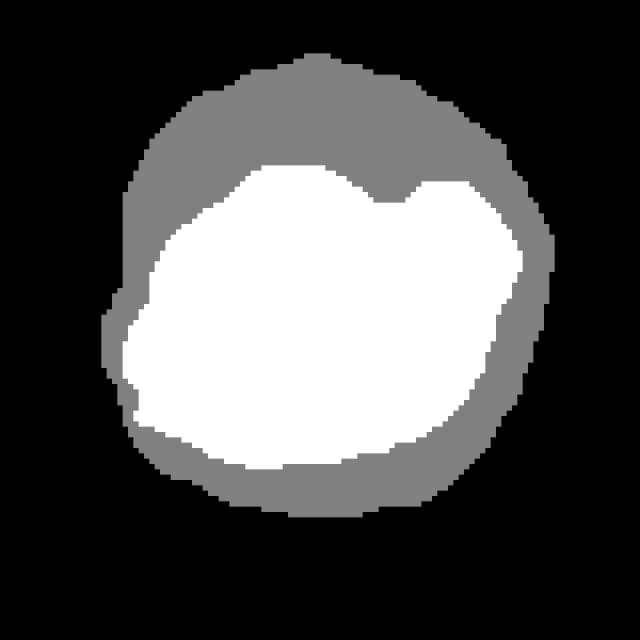WBC: (75, 37, 576, 560)
